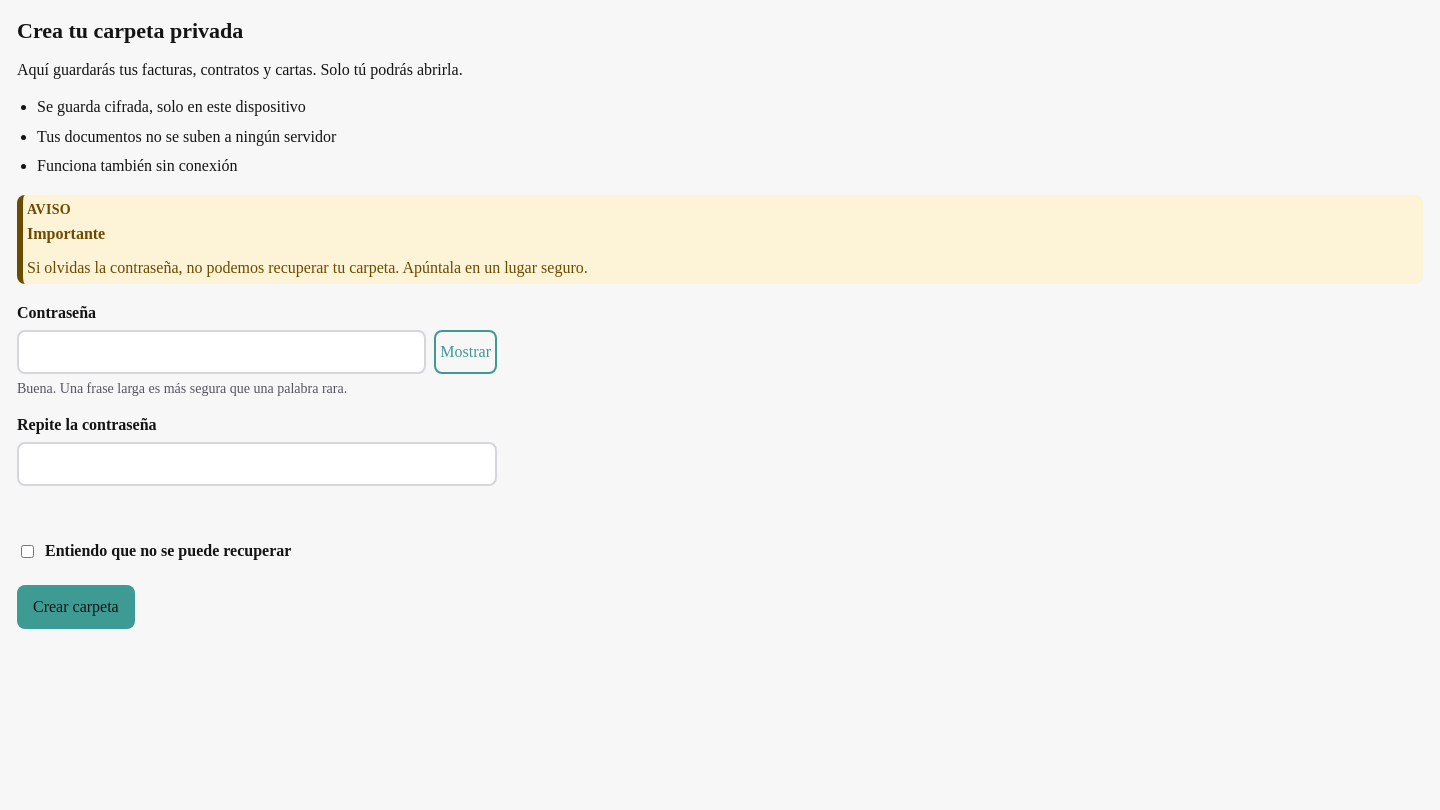
Test case: CrearCarpeta › si crear falla con contraseña incorrecta muestra el mensaje del error
The width and height of the screenshot is (1440, 810).
Type "frase-larga-de-prueba" into the password field labelled "Contraseña" at x=222, y=352, box [17, 330, 426, 374]
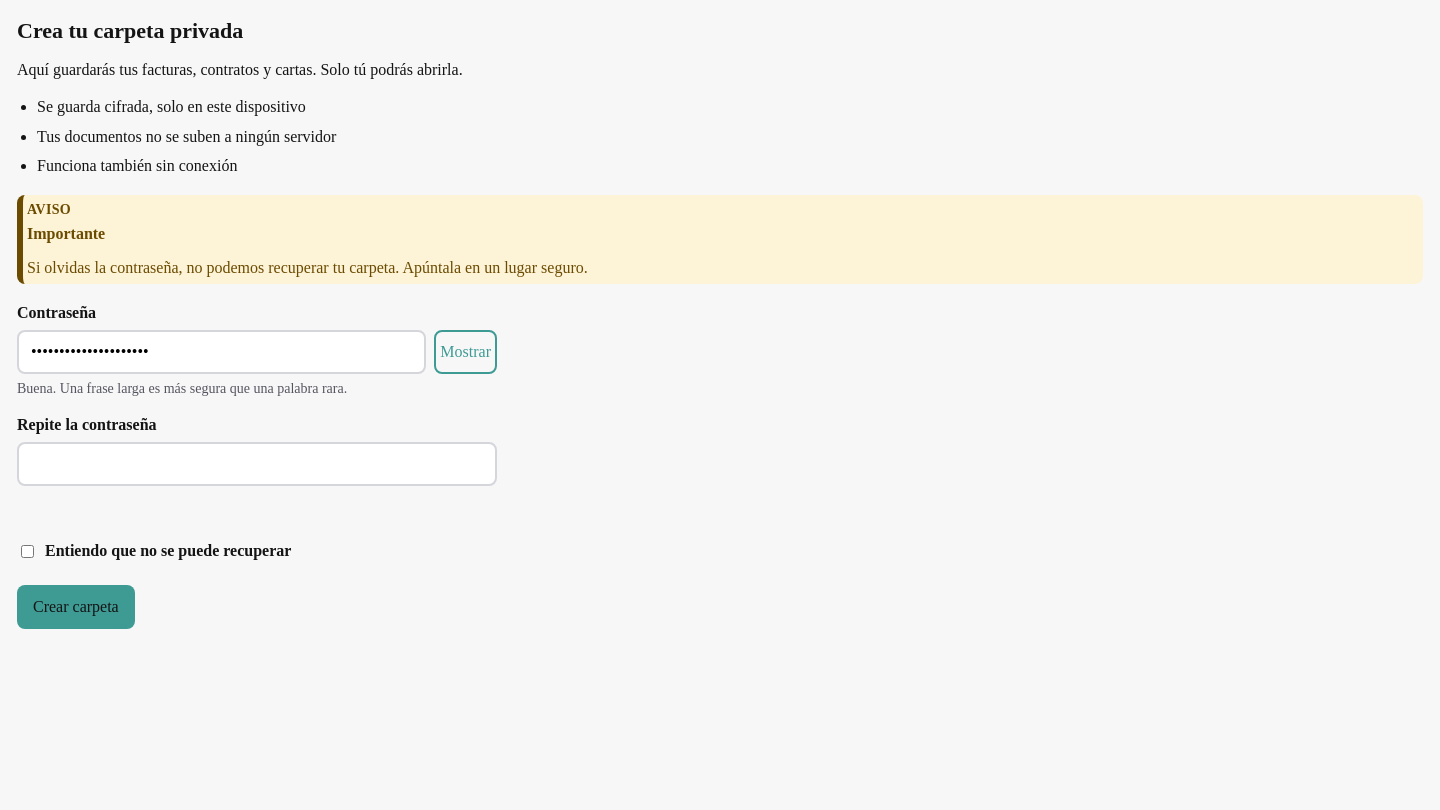
Type "frase-larga-de-prueba" into the password field labelled "Repite la contraseña" at x=257, y=464, box [17, 442, 497, 486]
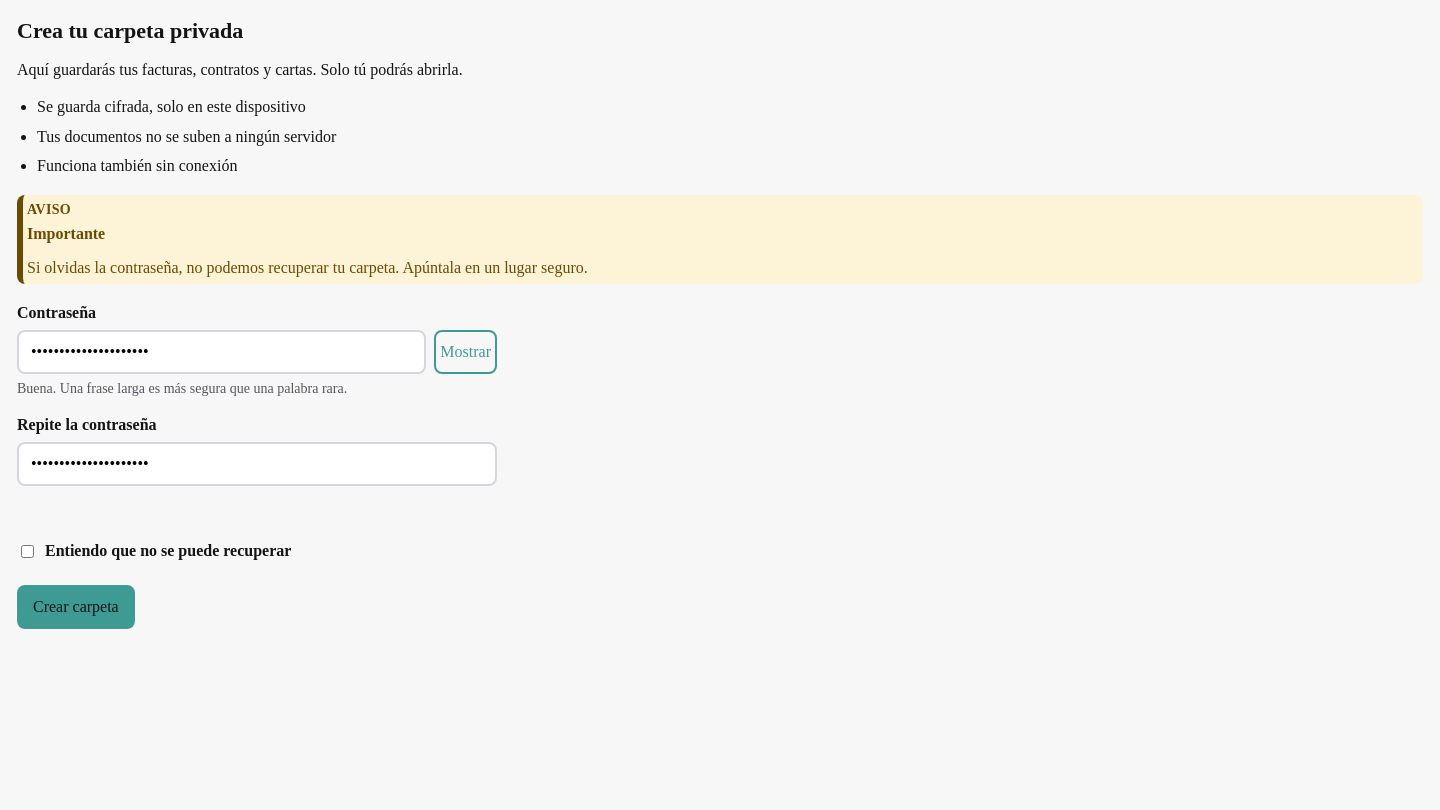
Click the checkbox labelled "Entiendo que no se puede recuperar" at x=28, y=551, box [21, 545, 34, 558]
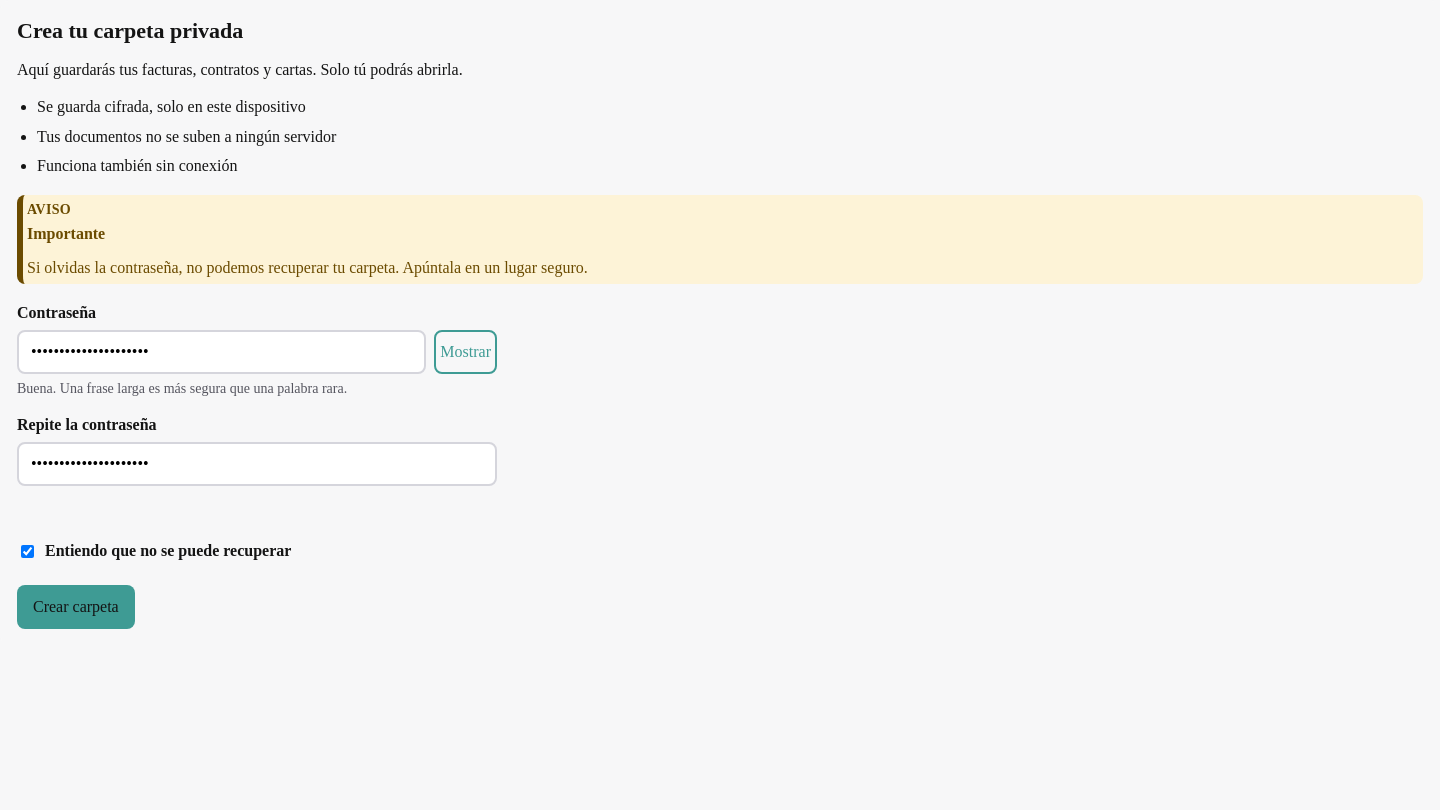
Click the button "Crear carpeta" at x=76, y=607, box [17, 585, 135, 629]
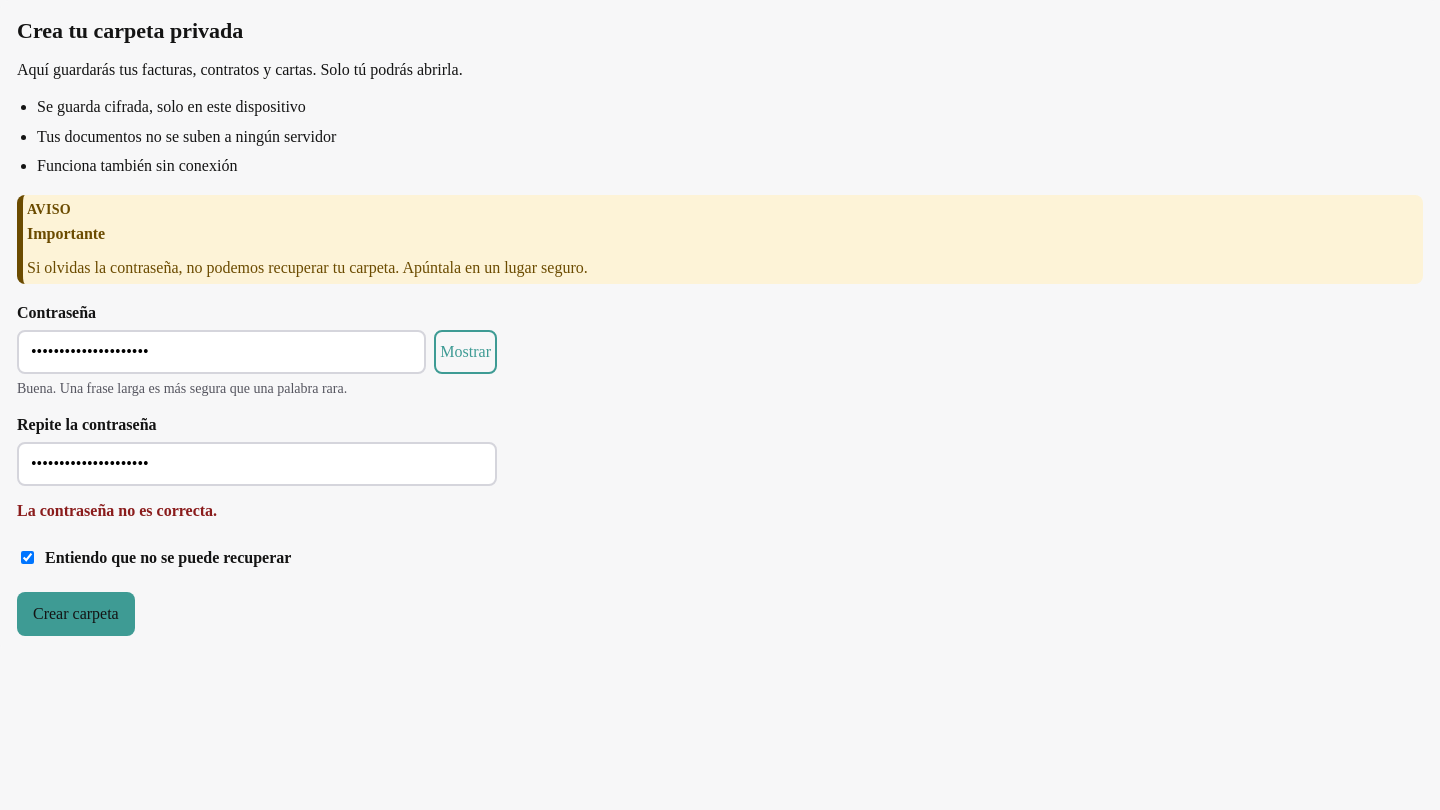
Check: the text "La contraseña no es correcta." is shown, box [17, 502, 217, 519]
